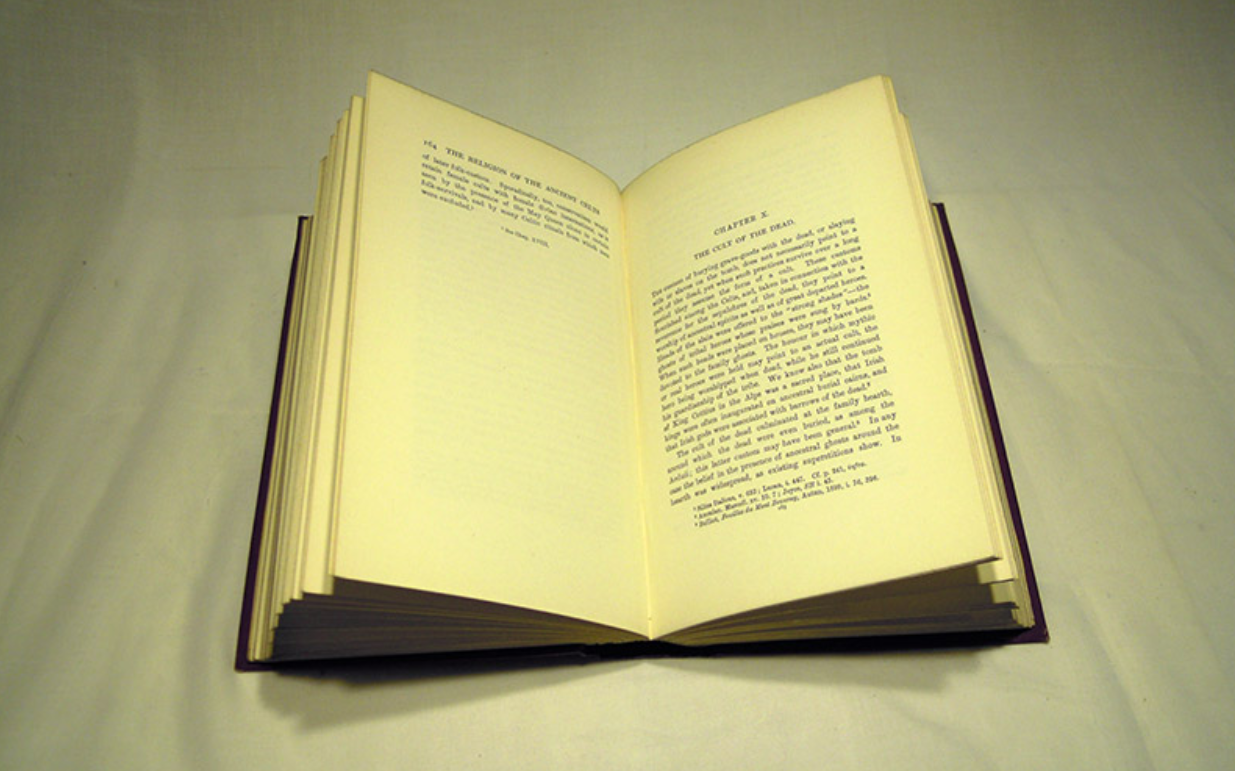book: (228, 70, 1053, 672)
